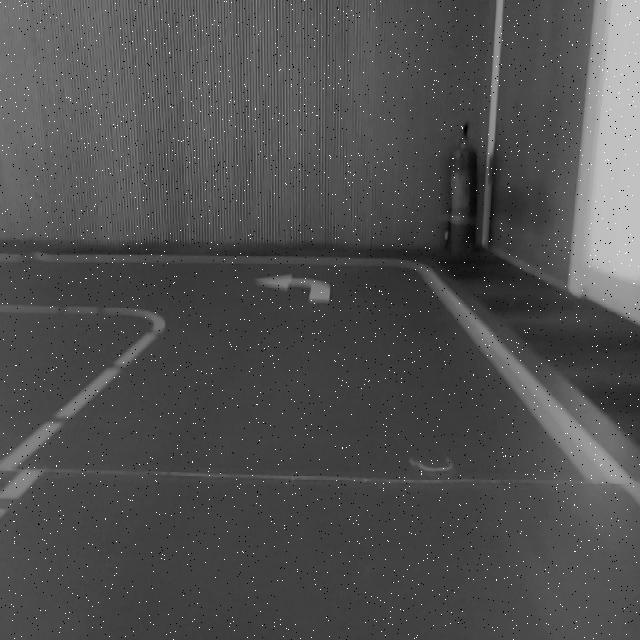left_lane: (0, 320, 167, 520)
right_lane: (420, 266, 636, 486)
